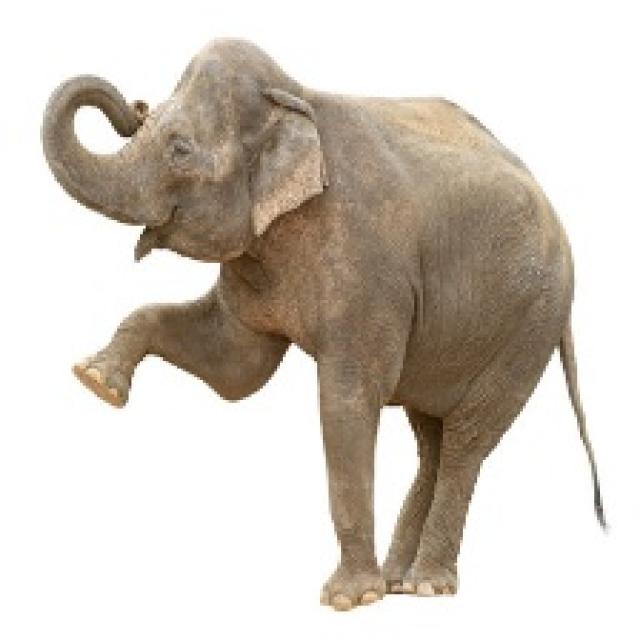bear: (59, 49, 616, 599)
